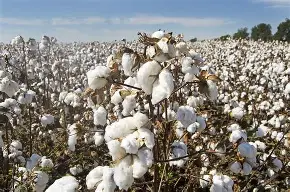crops: (0, 32, 285, 190), (2, 34, 65, 100), (100, 110, 155, 175), (225, 124, 281, 177)
